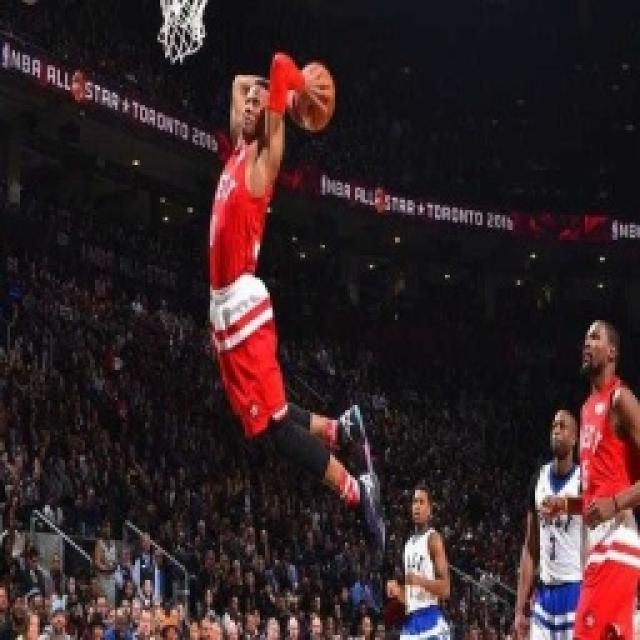rim: (291, 59, 341, 134)
